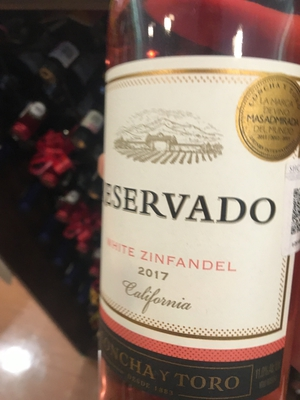reservado white zinfandel: (89, 11, 299, 400)
